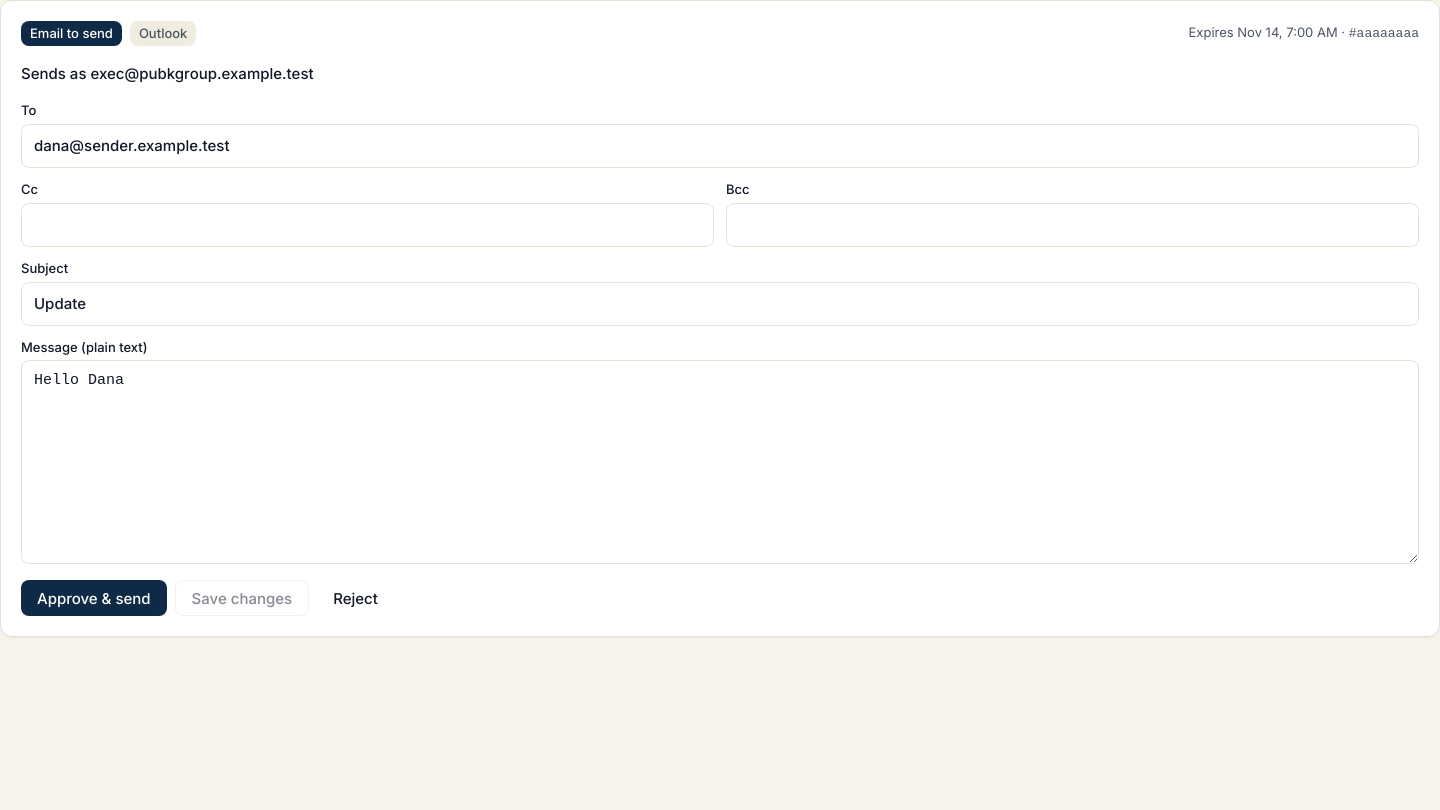
what the owner reads after Approve (T-263) › an Outlook action with an unknown outcome says where to look; a lagging sent copy says so; a Gmail failure keeps its text
The image size is (1440, 810).
Later steps or results of the test are not shown.
Step 1. Click the button "Approve & send" → coordinates (94, 598), box [21, 580, 167, 616]
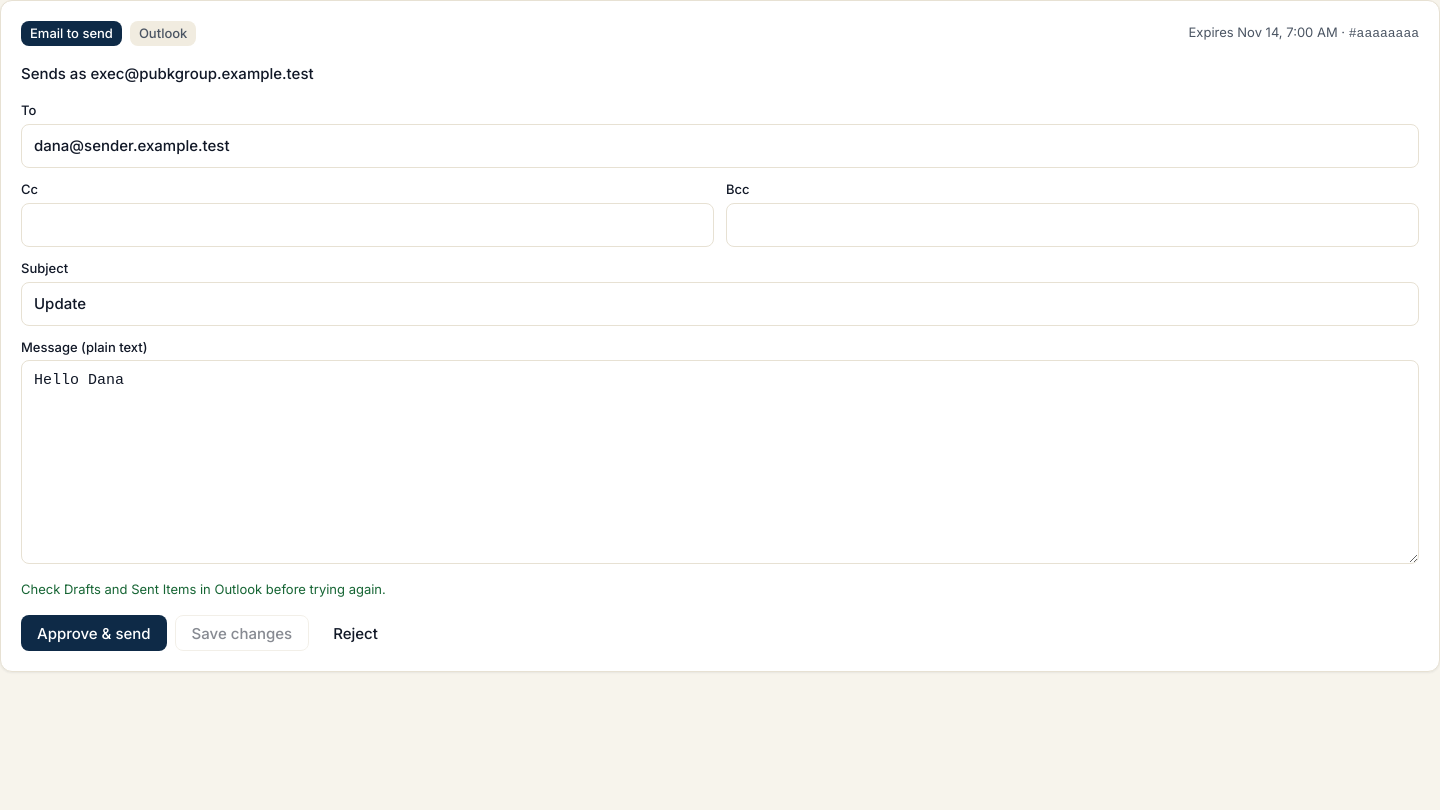
Expected: the text "Check Drafts and Sent Items in Outlook before trying again." is shown, [21, 582, 386, 598]
